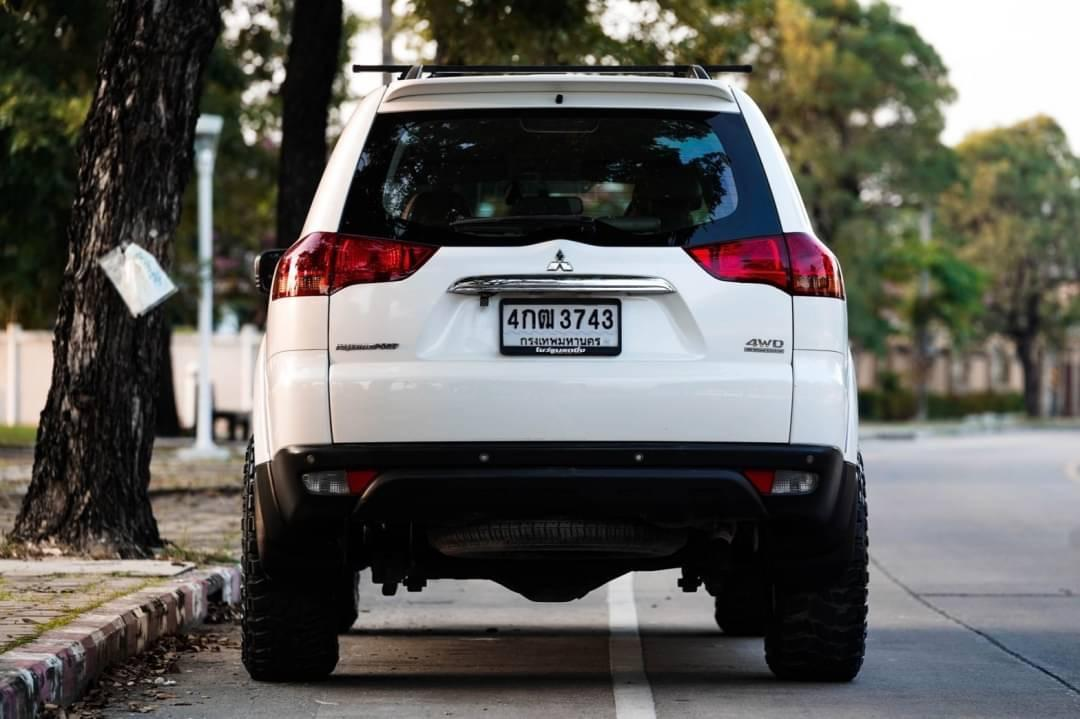license-plate: (497, 293, 627, 362)
